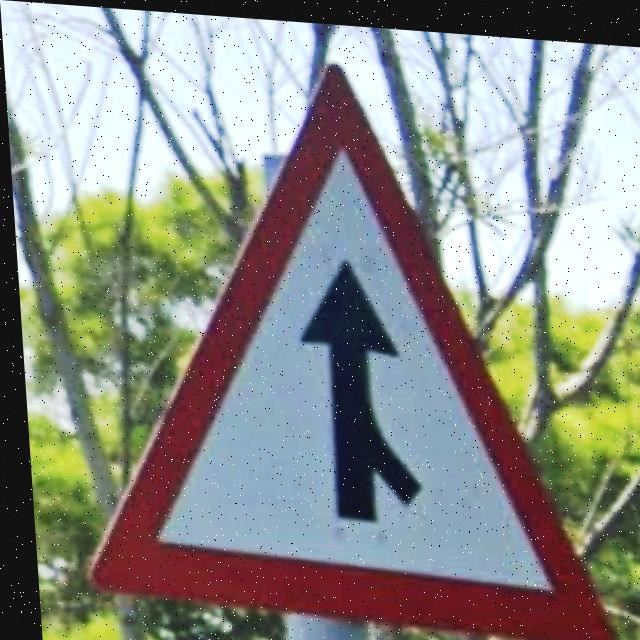rightmerge: (83, 58, 606, 640)
